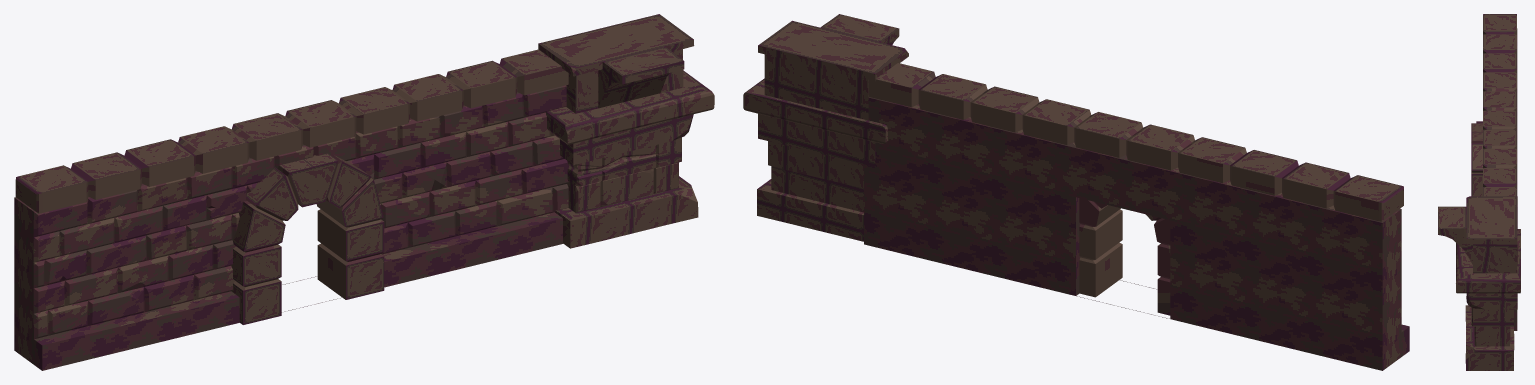
File: brick_wall_opened_comp_1.fbx
3 views of the same model, side by side, from view 1: azimuth 30°, elevation 25°; view 2: azimuth 150°, elevation 25°; view 3: azimuth 270°, elevation 25° (orthographic). The views are drawn at different scales.
Parts seen in each view (by area): view 1: Large Pillar; view 2: Large Pillar; view 3: Large Pillar.
Part boxes in pixels (<box>): Large Pillar: <box>14,14,714,370</box>; Large Pillar: <box>743,14,1409,370</box>; Large Pillar: <box>1438,14,1520,370</box>.
Bounding box in the file's own units: 2703 × 703 × 404.
2 materials, 2 textured.
